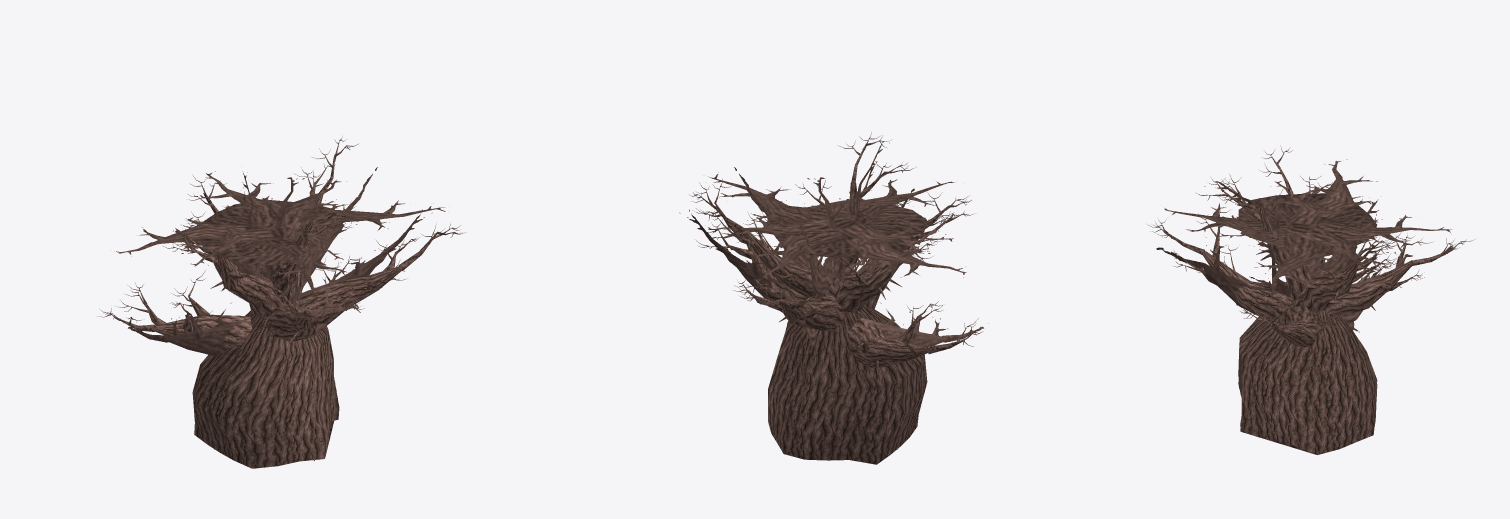
File: Baoba_03_Digitata_Anciao_Seco.glb
3 views of the same model, side by side, from view 1: azimuth 30°, elevation 25°; view 2: azimuth 150°, elevation 25°; view 3: azimuth 270°, elevation 25° (orthographic). The views are drawn at different scales.
Parts seen in each view (by area): view 1: Tronco, Baoba_03_Digitata_Anciao_Seco impostor, Bracos principais, Ramos secundarios, Ponteiras, Ramos finos; view 2: Tronco, Baoba_03_Digitata_Anciao_Seco impostor, Bracos principais, Ramos secundarios, Ponteiras, Ramos finos; view 3: Tronco, Baoba_03_Digitata_Anciao_Seco impostor, Bracos principais, Ramos secundarios, Ponteiras, Ramos finos.
Boxes of the visible parts, x1=… form: Tronco: x1=192, y1=309, x2=334, y2=468; Baoba_03_Digitata_Anciao_Seco impostor: x1=116, y1=167, x2=445, y2=460; Bracos principais: x1=155, y1=194, x2=401, y2=348; Ramos secundarios: x1=125, y1=156, x2=436, y2=332; Ponteiras: x1=98, y1=136, x2=465, y2=321; Ramos finos: x1=110, y1=140, x2=453, y2=324; Tronco: x1=768, y1=305, x2=927, y2=464; Baoba_03_Digitata_Anciao_Seco impostor: x1=679, y1=141, x2=988, y2=454; Bracos principais: x1=741, y1=182, x2=927, y2=367; Ramos secundarios: x1=711, y1=144, x2=962, y2=355; Ponteiras: x1=690, y1=132, x2=983, y2=352; Ramos finos: x1=698, y1=139, x2=973, y2=349; Tronco: x1=1238, y1=302, x2=1377, y2=454; Baoba_03_Digitata_Anciao_Seco impostor: x1=1156, y1=159, x2=1452, y2=426; Bracos principais: x1=1203, y1=197, x2=1411, y2=347; Ramos secundarios: x1=1167, y1=163, x2=1442, y2=335; Ponteiras: x1=1148, y1=146, x2=1474, y2=336; Ramos finos: x1=1160, y1=151, x2=1460, y2=333.
Size of what is drawn, in the model's own units: 18.78 by 18.78 by 18.78.
Materials: 2 (2 with a texture image).
